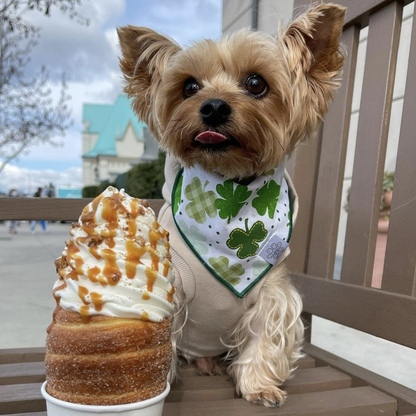yorkshire: (115, 3, 347, 178)
